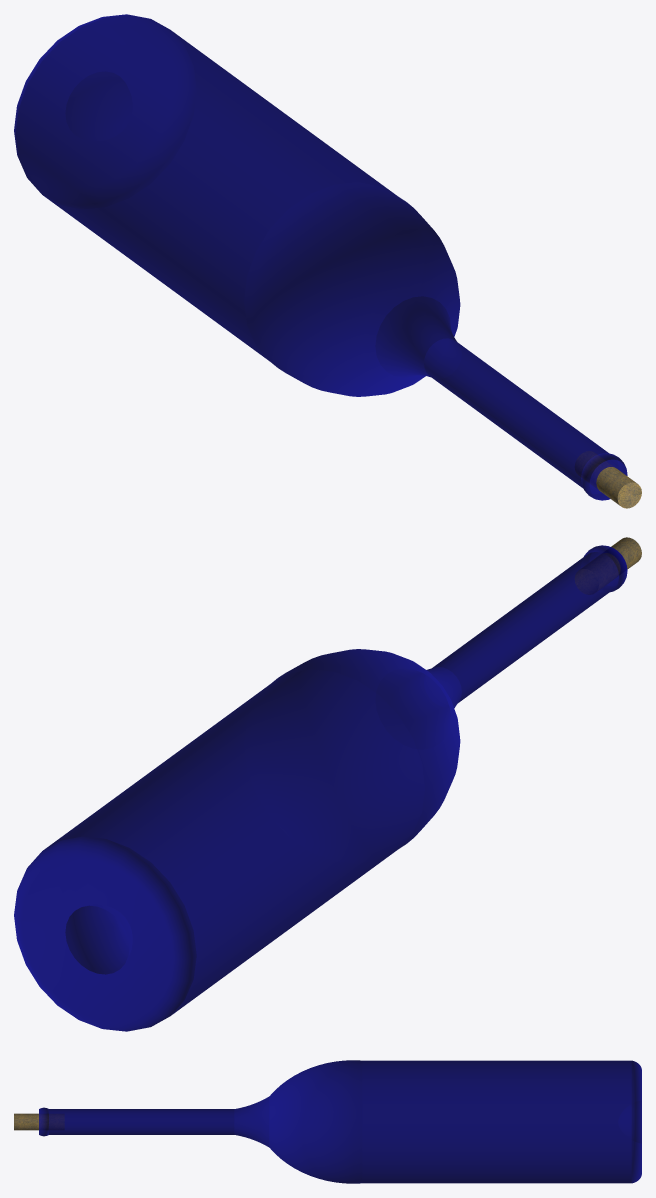
The model's file is model_scale.obj.
The picture shows the model from 3 angles, top to bottom: view 1: azimuth 30°, elevation 25°; view 2: azimuth 150°, elevation 25°; view 3: azimuth 270°, elevation 25°; orthographic projection. The views are drawn at different scales.
Parts seen in each view (by area): view 1: mesh3_mesh3-geometry, mesh1_mesh1-geometry; view 2: mesh3_mesh3-geometry, mesh1_mesh1-geometry; view 3: mesh3_mesh3-geometry, mesh1_mesh1-geometry.
Part boxes in pixels (x1,y1,x2,y2): mesh3_mesh3-geometry: [14, 14, 627, 500]; mesh1_mesh1-geometry: [575, 451, 641, 508]; mesh3_mesh3-geometry: [14, 545, 627, 1031]; mesh1_mesh1-geometry: [575, 537, 641, 594]; mesh3_mesh3-geometry: [39, 1060, 641, 1183]; mesh1_mesh1-geometry: [14, 1113, 64, 1130].
Size of the model in its own units: 0.0561 by 0.0561 by 0.2844.
